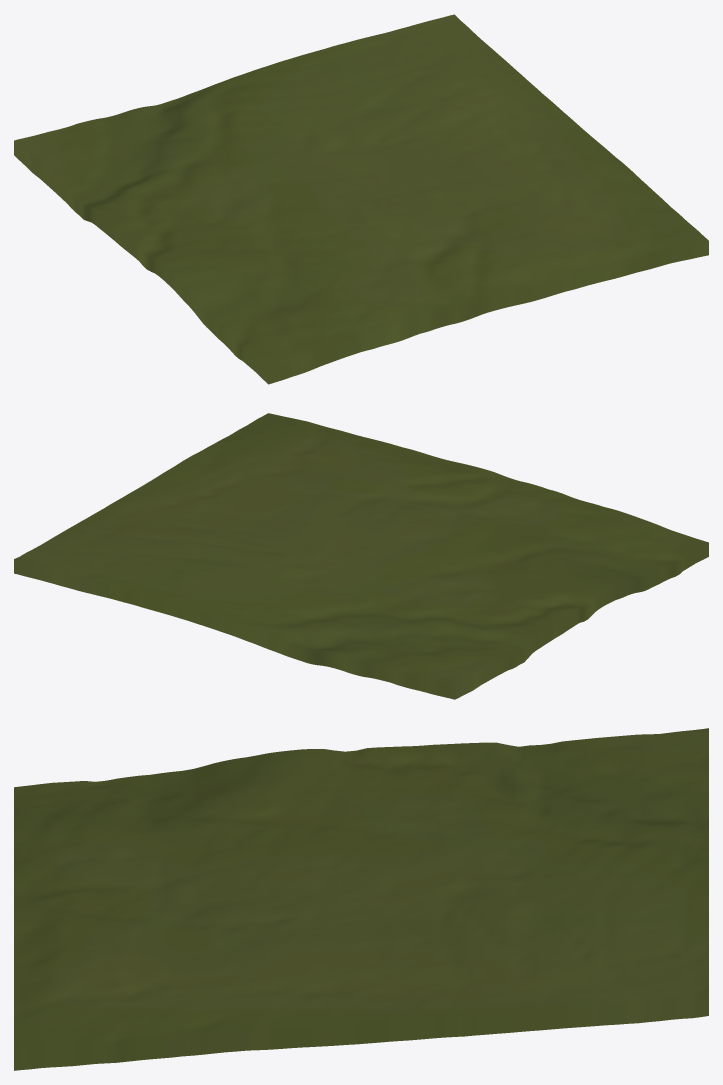
The model's file is terrain_-1_-3.glb.
3 renders of one model, top to bottom at view 1: azimuth 30°, elevation 25°; view 2: azimuth 150°, elevation 25°; view 3: azimuth 270°, elevation 25°, orthographic. The views are drawn at different scales.
Visible parts, largest first — view 1: terrain_-1_-3; view 2: terrain_-1_-3; view 3: terrain_-1_-3.
Boxes of the visible parts, x1,y1,x2,y2 form: terrain_-1_-3: (14, 14, 708, 384); terrain_-1_-3: (14, 413, 708, 699); terrain_-1_-3: (14, 728, 708, 1070).
Bounding box in the file's own units: 256 × 42.46 × 256.
